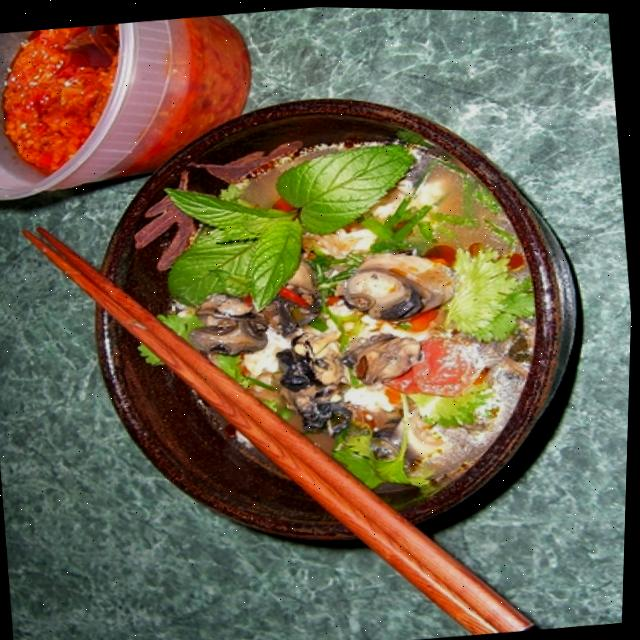面条主食: (79, 70, 582, 562)
